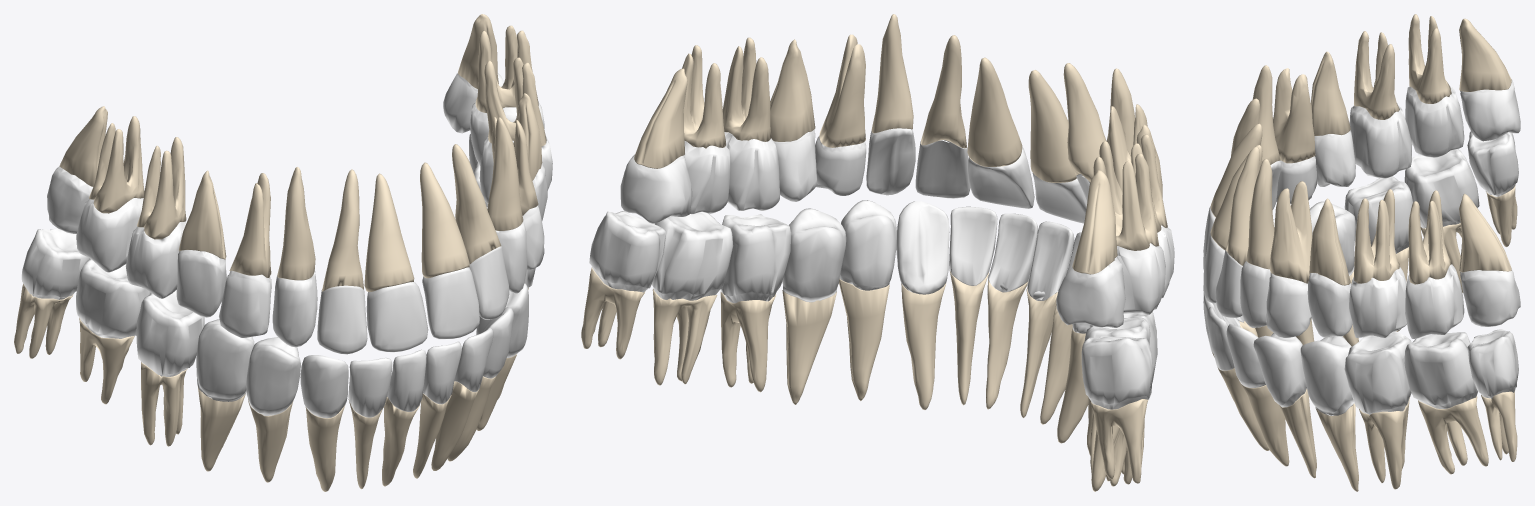
File: teeth.obj
3 renders of one model, left to right at view 1: azimuth 30°, elevation 25°; view 2: azimuth 150°, elevation 25°; view 3: azimuth 270°, elevation 25°, orthographic. The views are drawn at different scales.
Parts seen in each view (by area): view 1: d46 1 R_dentes, d47 1 R_dentes, d11 R_dentes, d45 1 R_dentes, d17 R_dentes_in, d48 1 R_dentes, d21 1 L_dentes_in, d11 1 R_dentes_in, d16 R_dentes_in, d44 1 R_dentes, d17 1 R_dentes, d21 L_dentes (+43 smaller); view 2: d37 1 L_dentes, d36 1 L_dentes, d38 1 L_dentes, d35 1 L_dentes, d48 1 R_dentes, d33 1 L_dentes, d34 1 L_dentes, d21 1 L_dentes_in, d26 L_dentes_in, d28 1 L_dentes, d18 1 R_dentes, d11 1 R_dentes_in (+39 smaller); view 3: d37 1 L_dentes, d36 1 L_dentes, d47 1 R_dentes, d16 1 R_dentes, d24 L_dentes_in, d35 1 L_dentes, d27 1 L_dentes, d14 R_dentes_in, d26 1 L_dentes, d17 1 R_dentes, d37 L_dentes_in, d26 L_dentes_in (+37 smaller).
Part boxes in pixels (x1,y1,x2,y2): d46 1 R_dentes: (136,290,204,376); d47 1 R_dentes: (76,259,150,338); d11 R_dentes: (366,282,428,352); d45 1 R_dentes: (196,319,254,401); d17 R_dentes_in: (89,116,144,213); d48 1 R_dentes: (21,228,89,299); d21 1 L_dentes_in: (420,162,469,278); d11 1 R_dentes_in: (364,173,414,291); d16 R_dentes_in: (137,137,186,239); d44 1 R_dentes: (246,337,300,415); d17 1 R_dentes: (76,198,143,272); d21 L_dentes: (422,267,479,339); d37 1 L_dentes: (651,212,733,300); d36 1 L_dentes: (720,214,791,303); d38 1 L_dentes: (589,211,666,292); d35 1 L_dentes: (782,208,846,302); d48 1 R_dentes: (1081,336,1152,409); d33 1 L_dentes: (896,201,949,294); d34 1 L_dentes: (839,200,896,290); d21 1 L_dentes_in: (967,57,1022,166); d26 L_dentes_in: (722,37,771,141); d28 1 L_dentes: (620,154,692,223); d18 1 R_dentes: (1056,256,1125,327); d11 1 R_dentes_in: (1028,70,1076,182); d37 1 L_dentes: (1404,332,1477,408); d36 1 L_dentes: (1344,332,1411,414); d47 1 R_dentes: (1404,149,1479,228); d16 1 R_dentes: (1349,105,1411,178); d24 L_dentes_in: (1269,181,1312,283); d35 1 L_dentes: (1300,336,1354,415); d27 1 L_dentes: (1405,264,1464,338); d14 R_dentes_in: (1273,68,1315,163); d26 1 L_dentes: (1349,267,1406,337); d17 1 R_dentes: (1405,86,1464,157); d37 L_dentes_in: (1418,396,1488,474); d26 L_dentes_in: (1354,189,1399,283).
Bounding box in the file's own units: 7.85 × 5.14 × 4.47.
